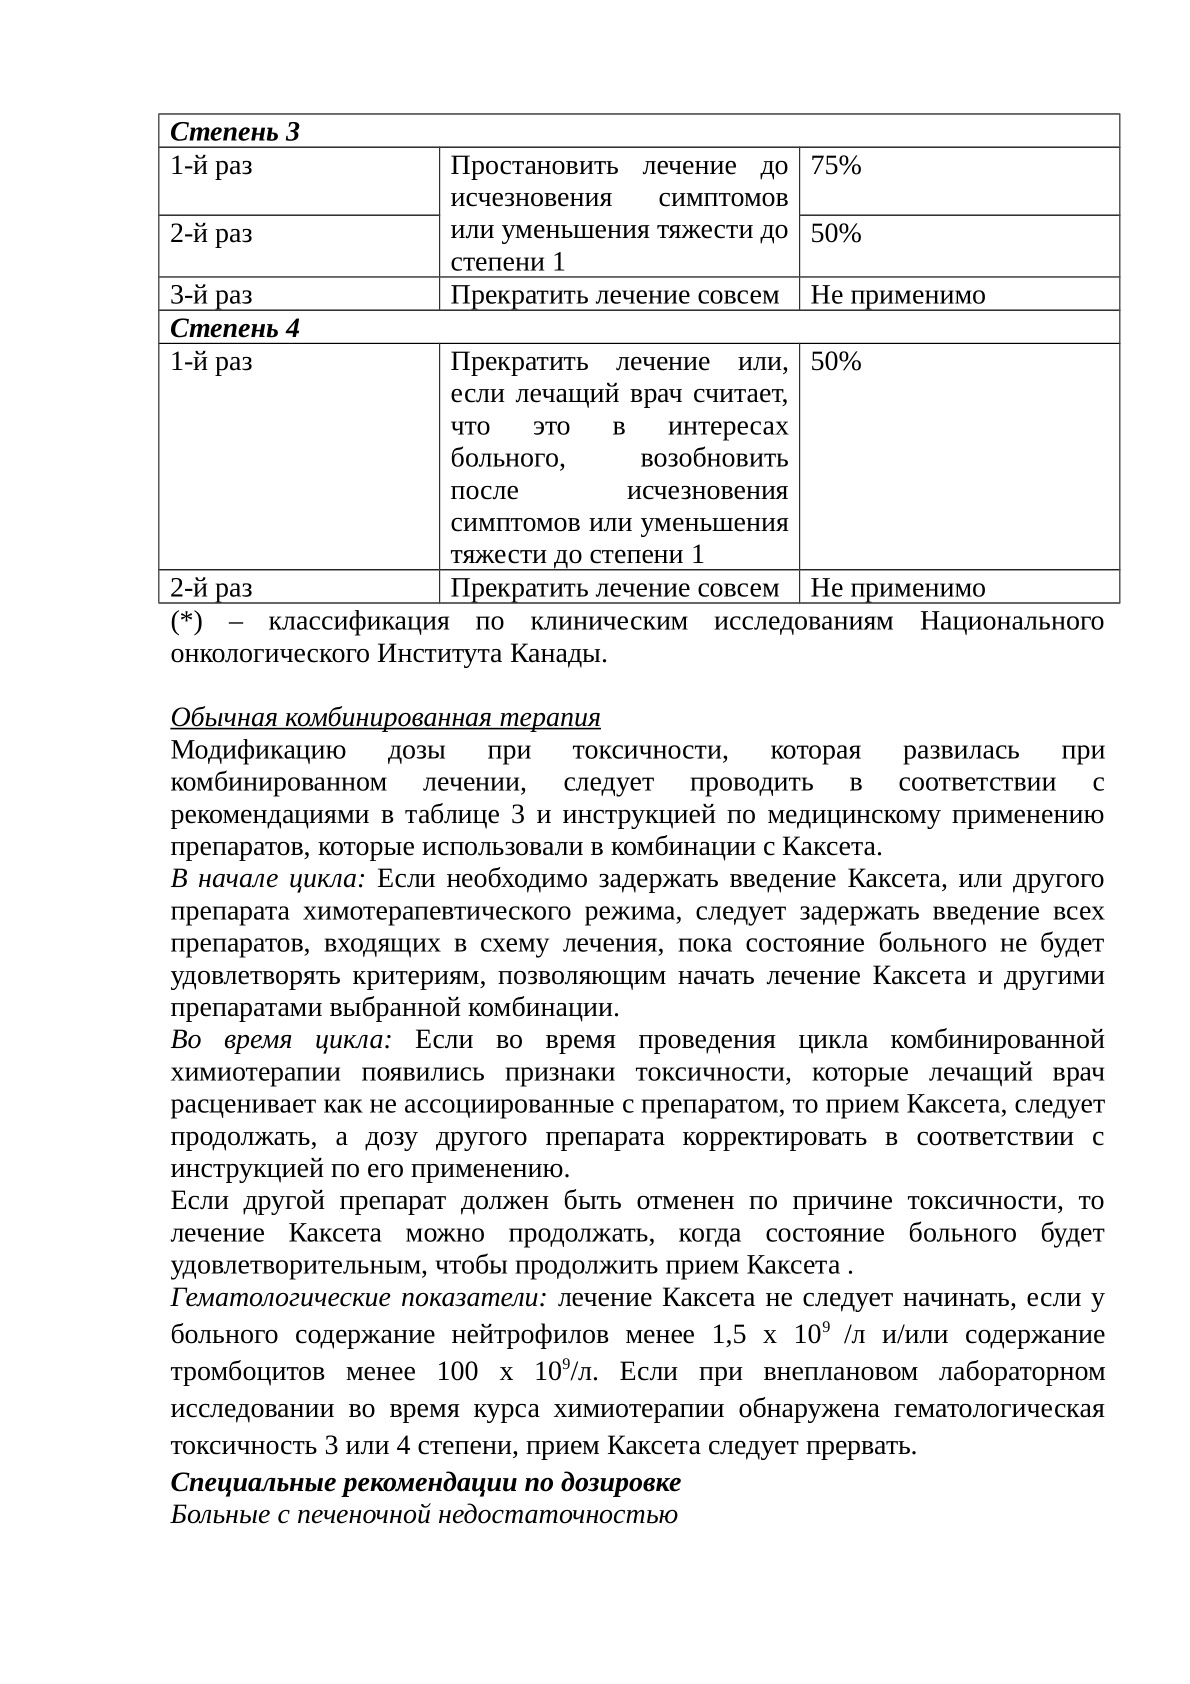merged_cells: (157, 113, 1120, 604)
